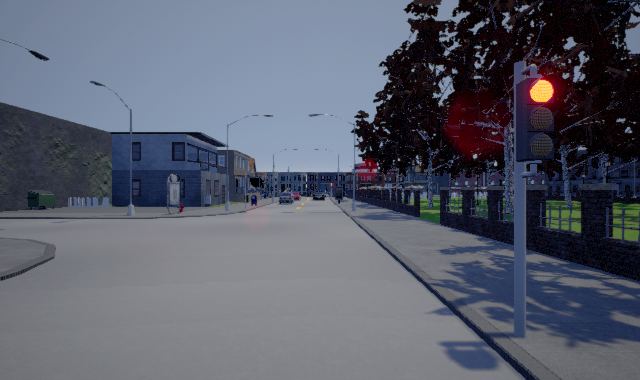traffic_light: (516, 64, 559, 178)
vehicle: (280, 192, 301, 204), (312, 191, 326, 202)
